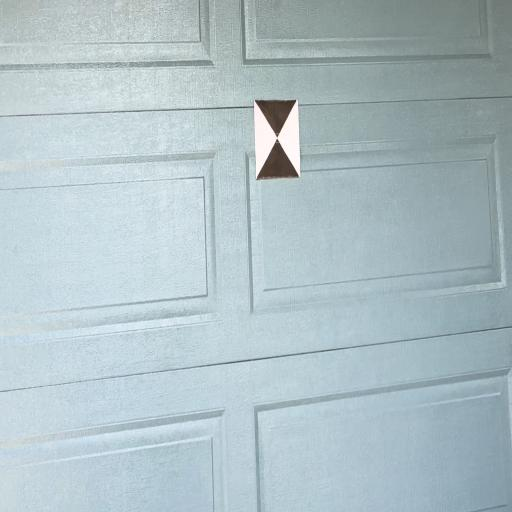target: (254, 100, 301, 180)
